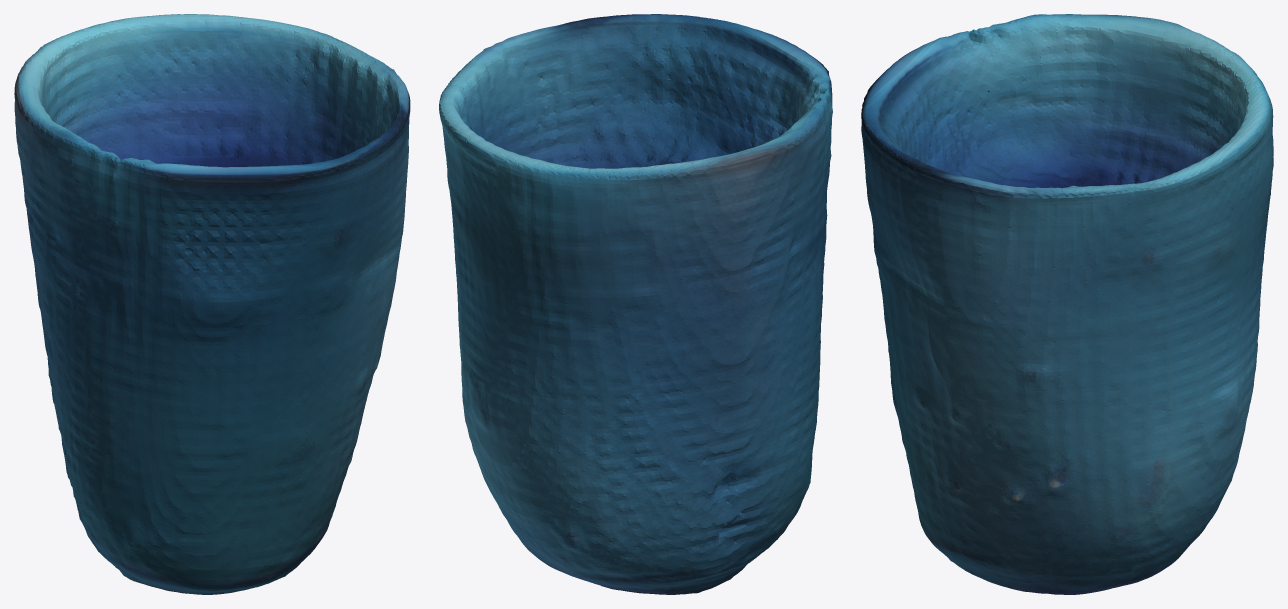
File: instantmesh_recon.glb
The picture shows the model from 3 angles, left to right: view 1: azimuth 30°, elevation 25°; view 2: azimuth 150°, elevation 25°; view 3: azimuth 270°, elevation 25°; orthographic projection.
Parts seen in each view (by area): view 1: world; view 2: world; view 3: world.
Part boxes in pixels (x1,y1,x2,y2): world: [14, 14, 410, 594]; world: [439, 14, 832, 594]; world: [861, 14, 1273, 594].
Bounding box in the file's own units: 0.0536 × 0.0723 × 0.0559.
1 material, 1 textured.
